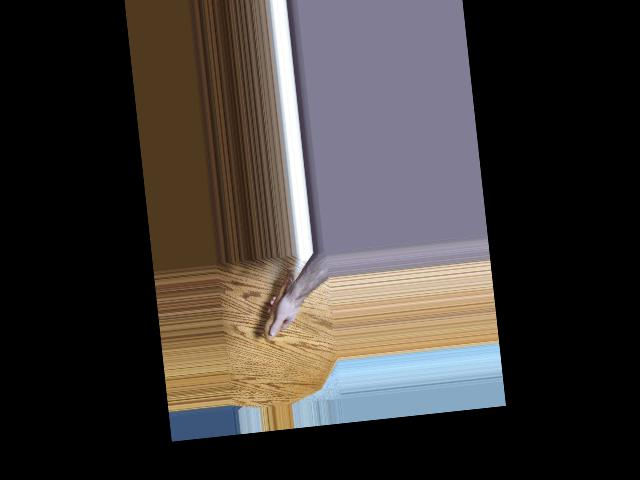sweet_potato: (255, 263, 303, 342)
